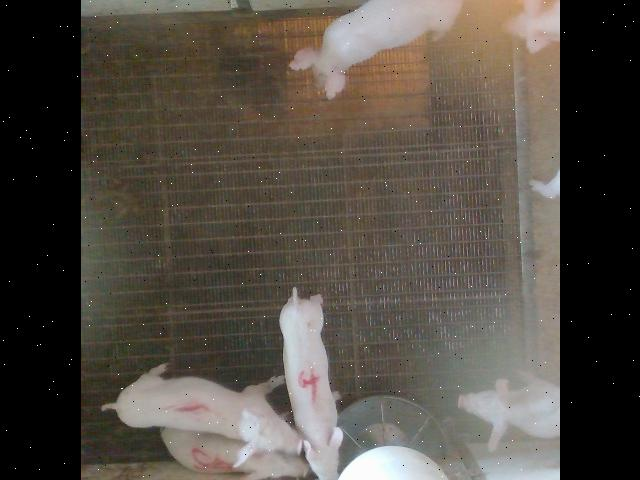pig-1: (101, 364, 301, 462)
pig-4: (279, 289, 342, 480)
pig-5: (160, 428, 309, 480)
